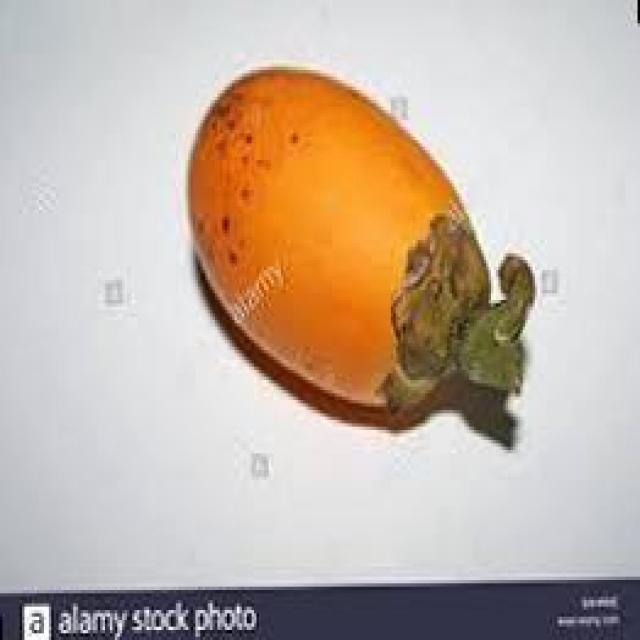good: (188, 63, 491, 433)
